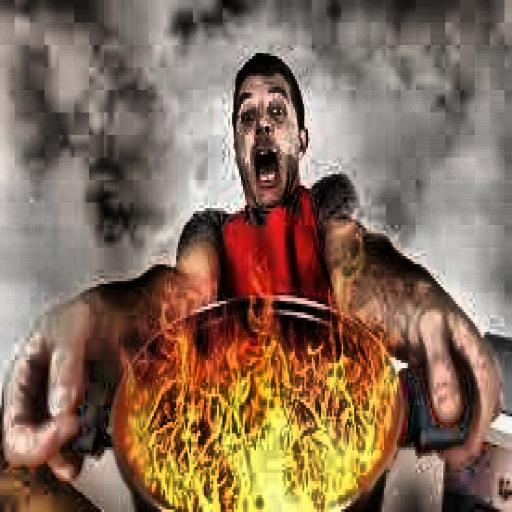fire: (120, 282, 400, 504)
